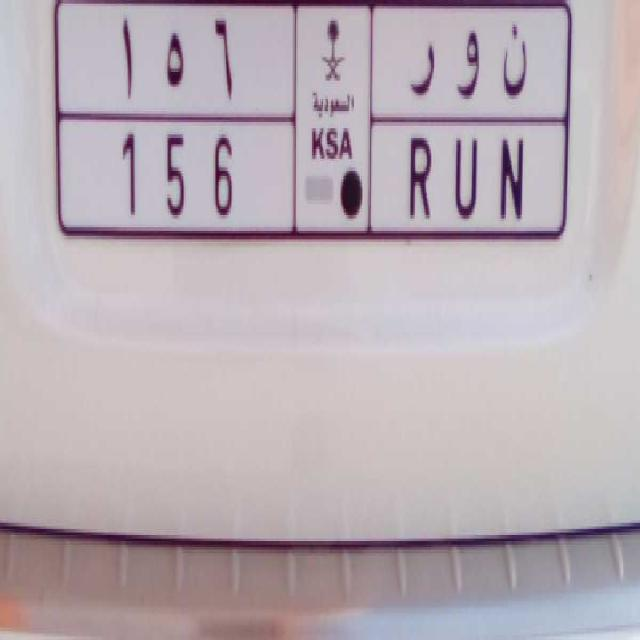license_plate: (93, 108, 545, 242)
